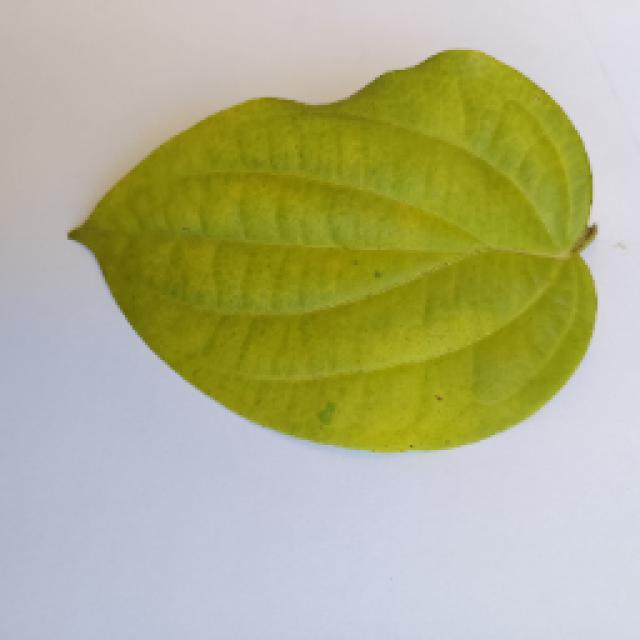slow-decline: (40, 48, 612, 480)
